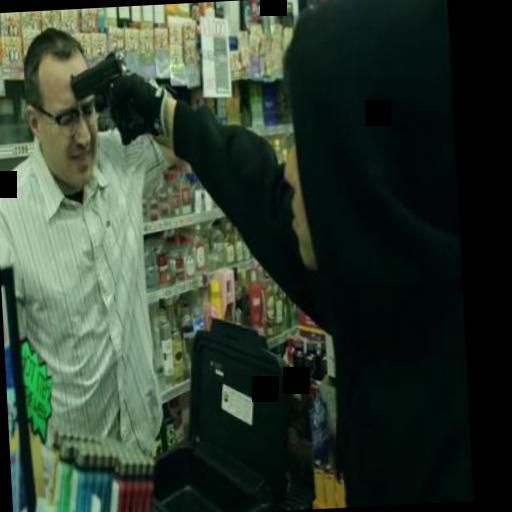Handgun: (63, 49, 141, 144)
